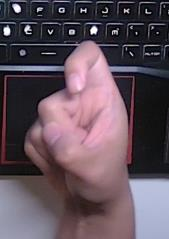anticlockwise: (24, 37, 131, 201)
